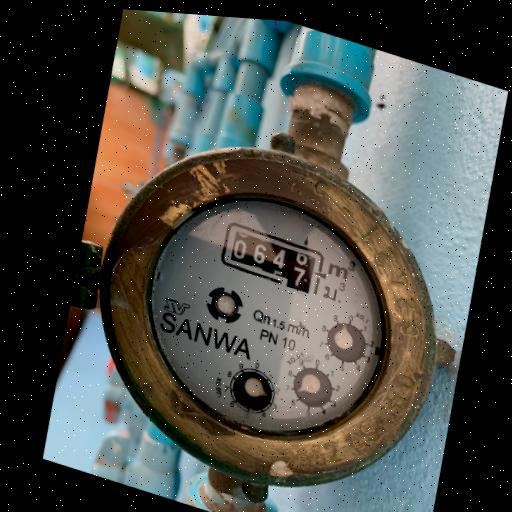0: (226, 230, 254, 266)
4: (261, 241, 294, 279)
6: (243, 235, 273, 272)
7: (280, 249, 317, 294)
border_water_meter_number: (215, 218, 329, 297)
